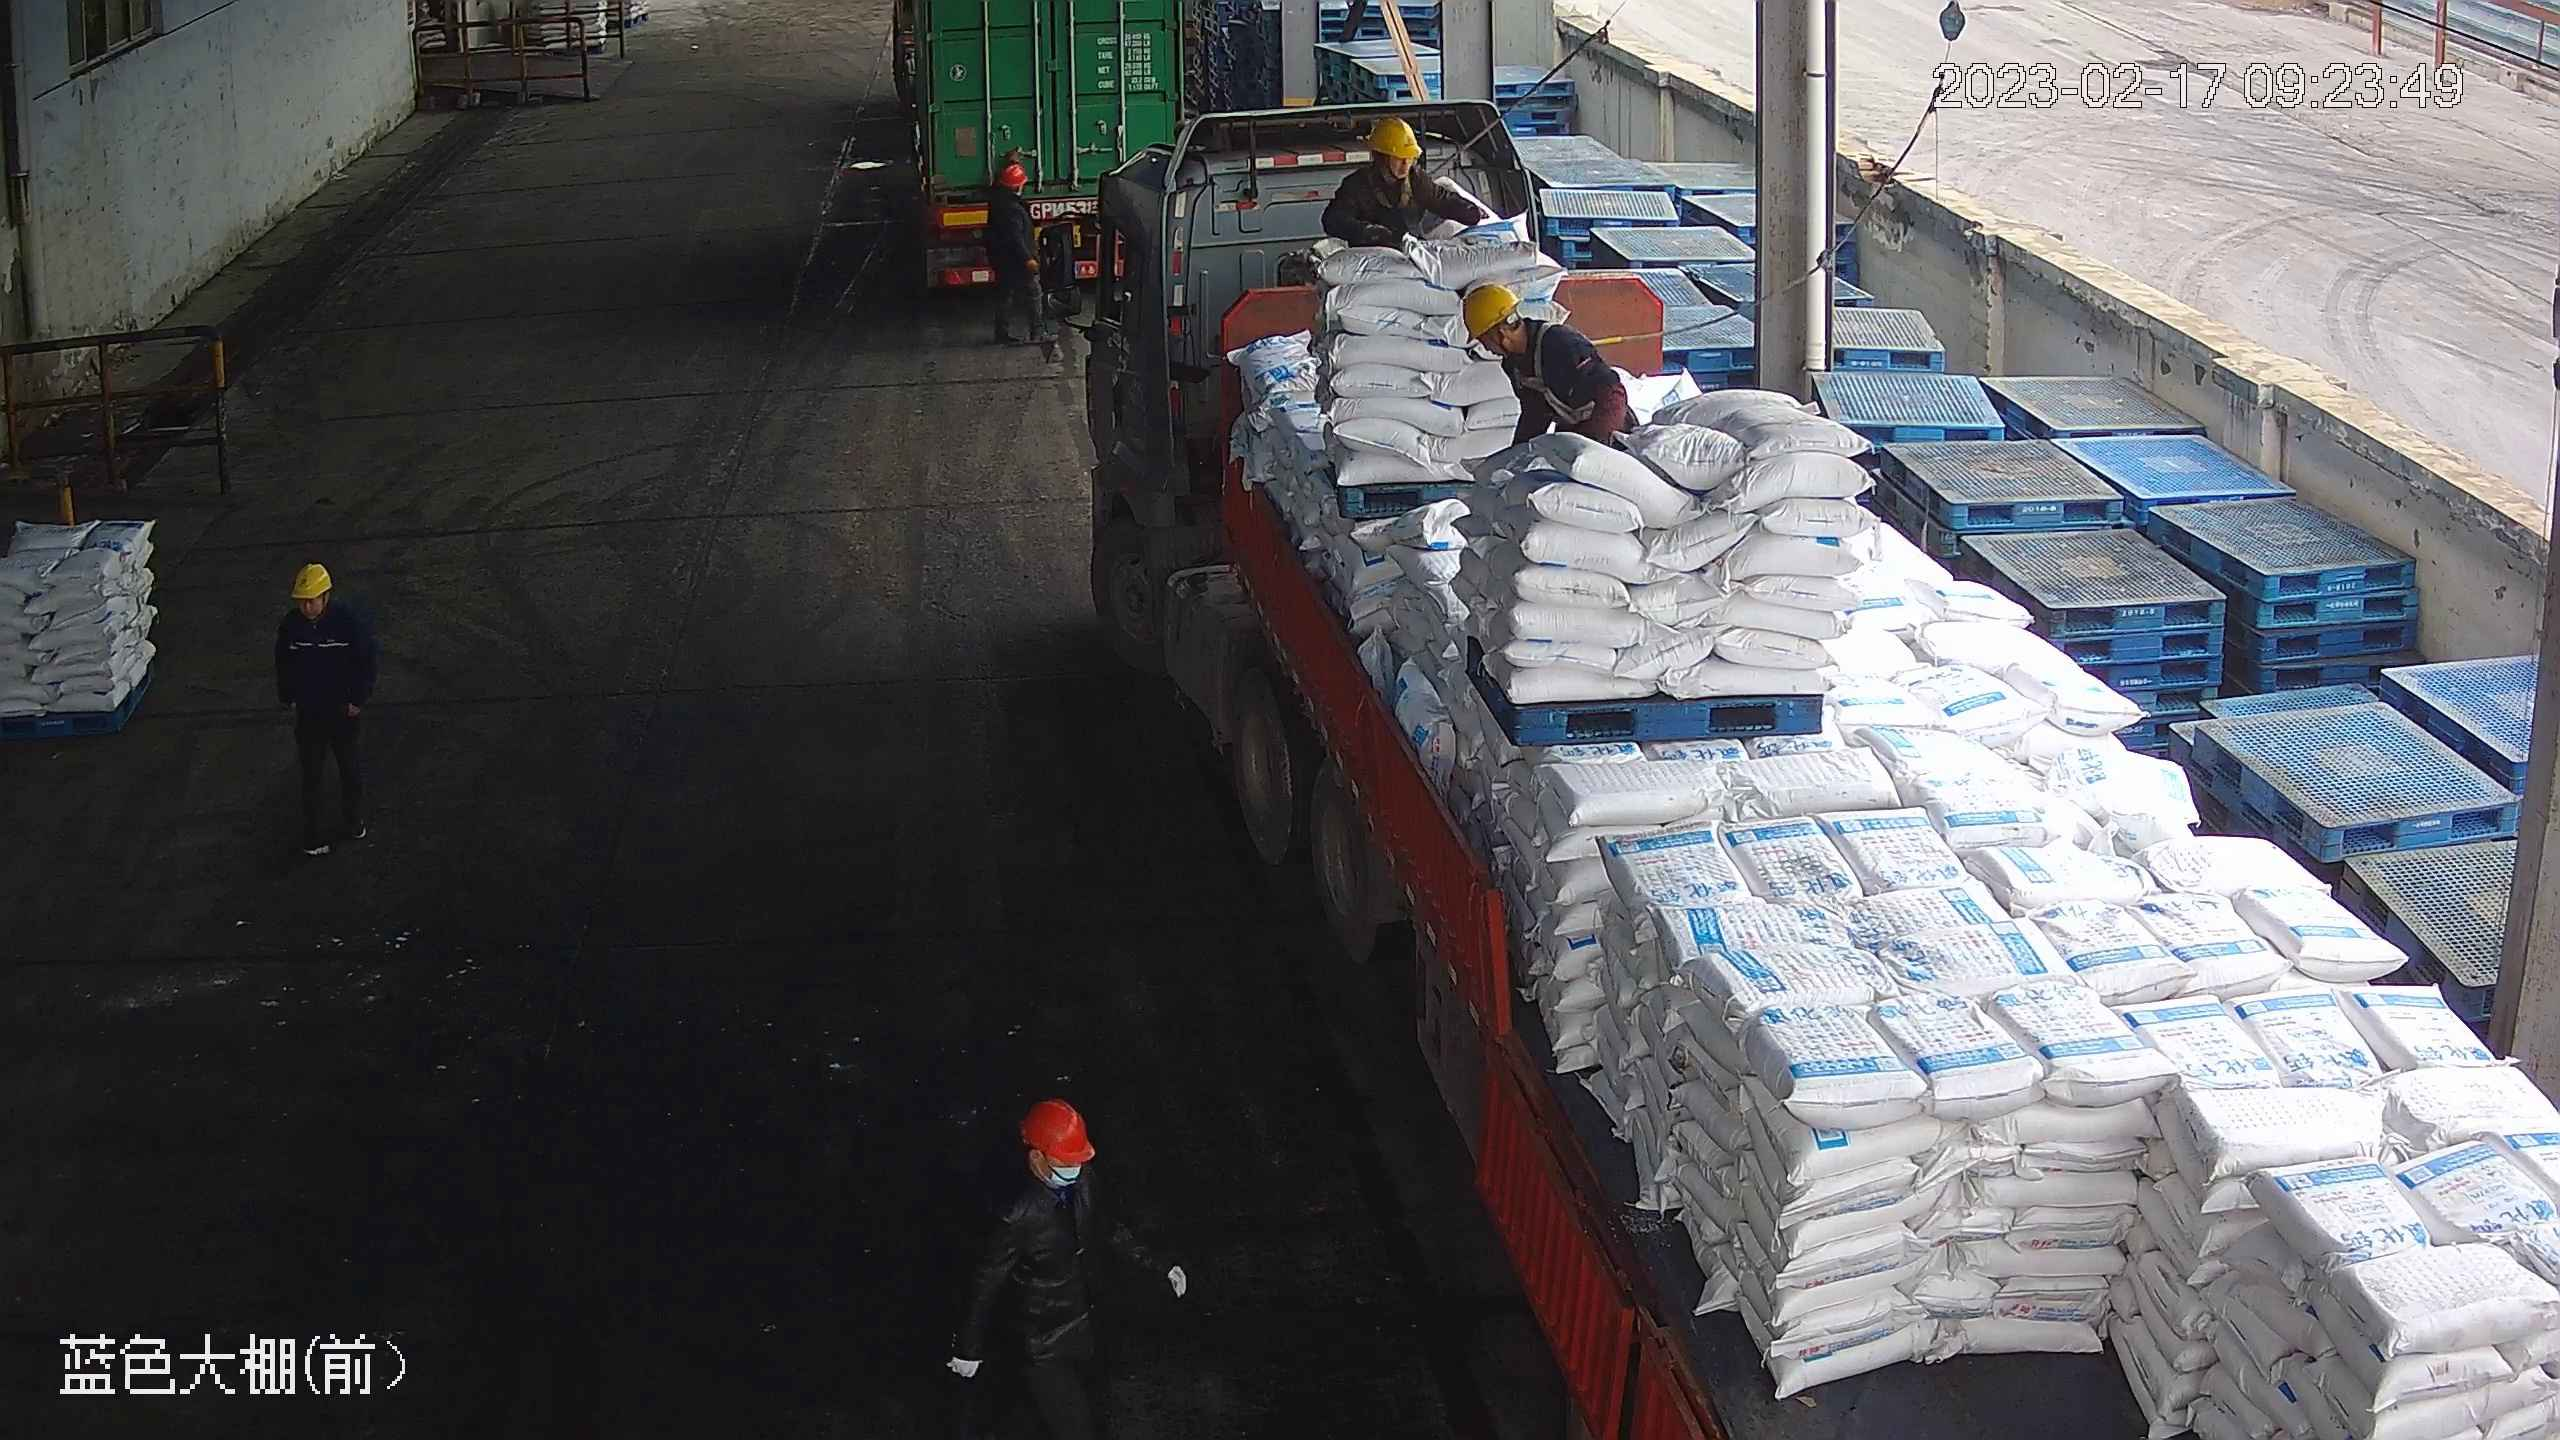belt: (1506, 319, 1592, 393), (1374, 172, 1425, 214)
head: (998, 1098, 1124, 1243), (1461, 281, 1577, 374), (276, 563, 376, 659), (1345, 116, 1440, 210), (987, 158, 1038, 218)
helmet: (1020, 1101, 1096, 1164), (1460, 280, 1519, 340), (1364, 114, 1420, 158), (292, 561, 333, 597), (996, 158, 1029, 184)
people: (944, 1096, 1187, 1436), (1461, 280, 1642, 458), (274, 561, 378, 858), (984, 159, 1045, 350)
truck: (1039, 96, 2552, 1438), (884, 1, 1188, 297)
